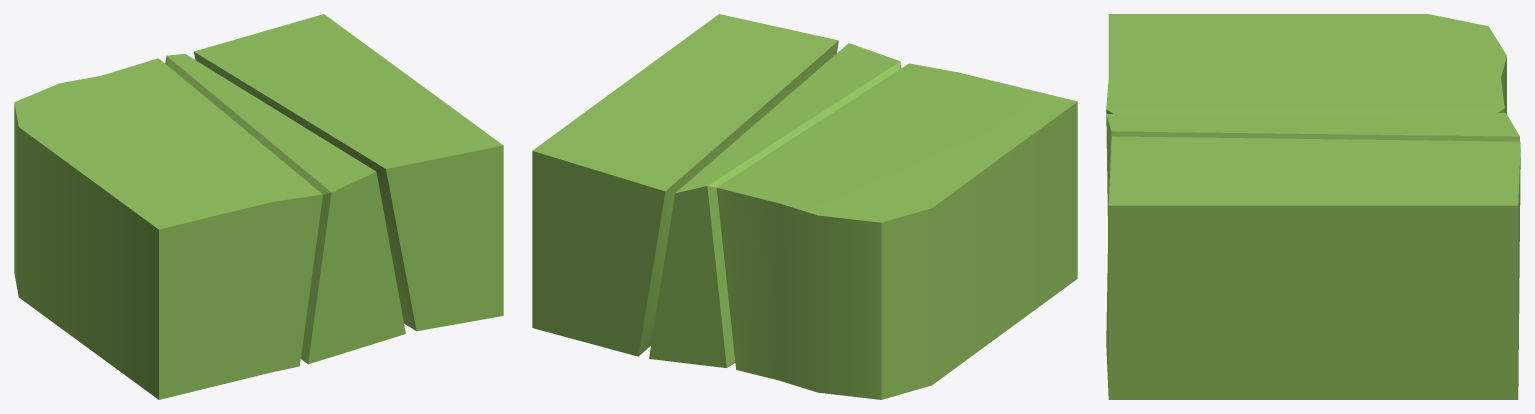
File: BrokenBlock8.obj
3 renders of one model, left to right at view 1: azimuth 30°, elevation 25°; view 2: azimuth 150°, elevation 25°; view 3: azimuth 270°, elevation 25°, orthographic. The views are drawn at different scales.
Parts seen in each view (by area): view 1: BrokenBlock8; view 2: BrokenBlock8; view 3: BrokenBlock8.
Boxes of the visible parts, <box> form: BrokenBlock8: <box>14,14,503,399</box>; BrokenBlock8: <box>532,14,1077,399</box>; BrokenBlock8: <box>1106,14,1520,399</box>.
Size of the model in its own units: 8.12 by 4.01 by 7.41.
